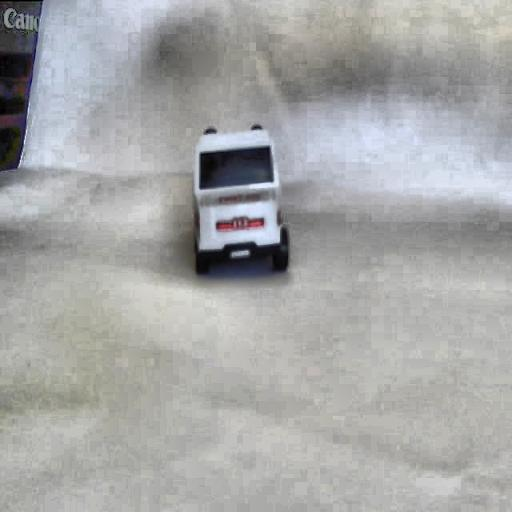ambulance: (192, 124, 289, 274)
